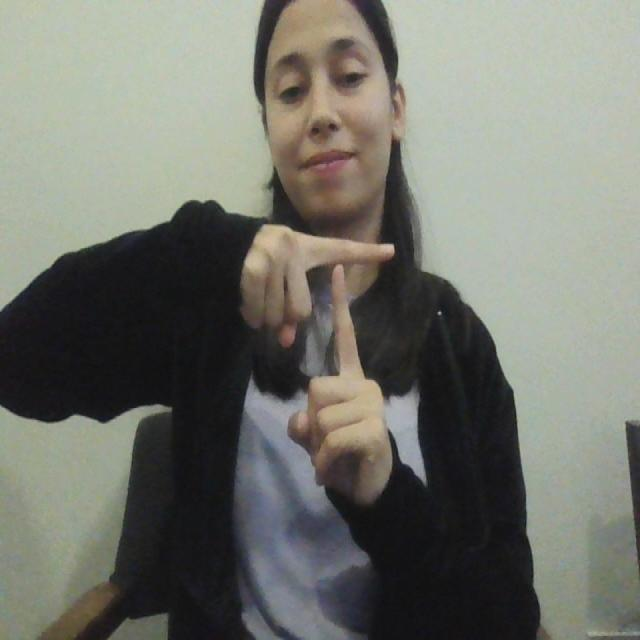Tesekkurler: (278, 230, 396, 398)
